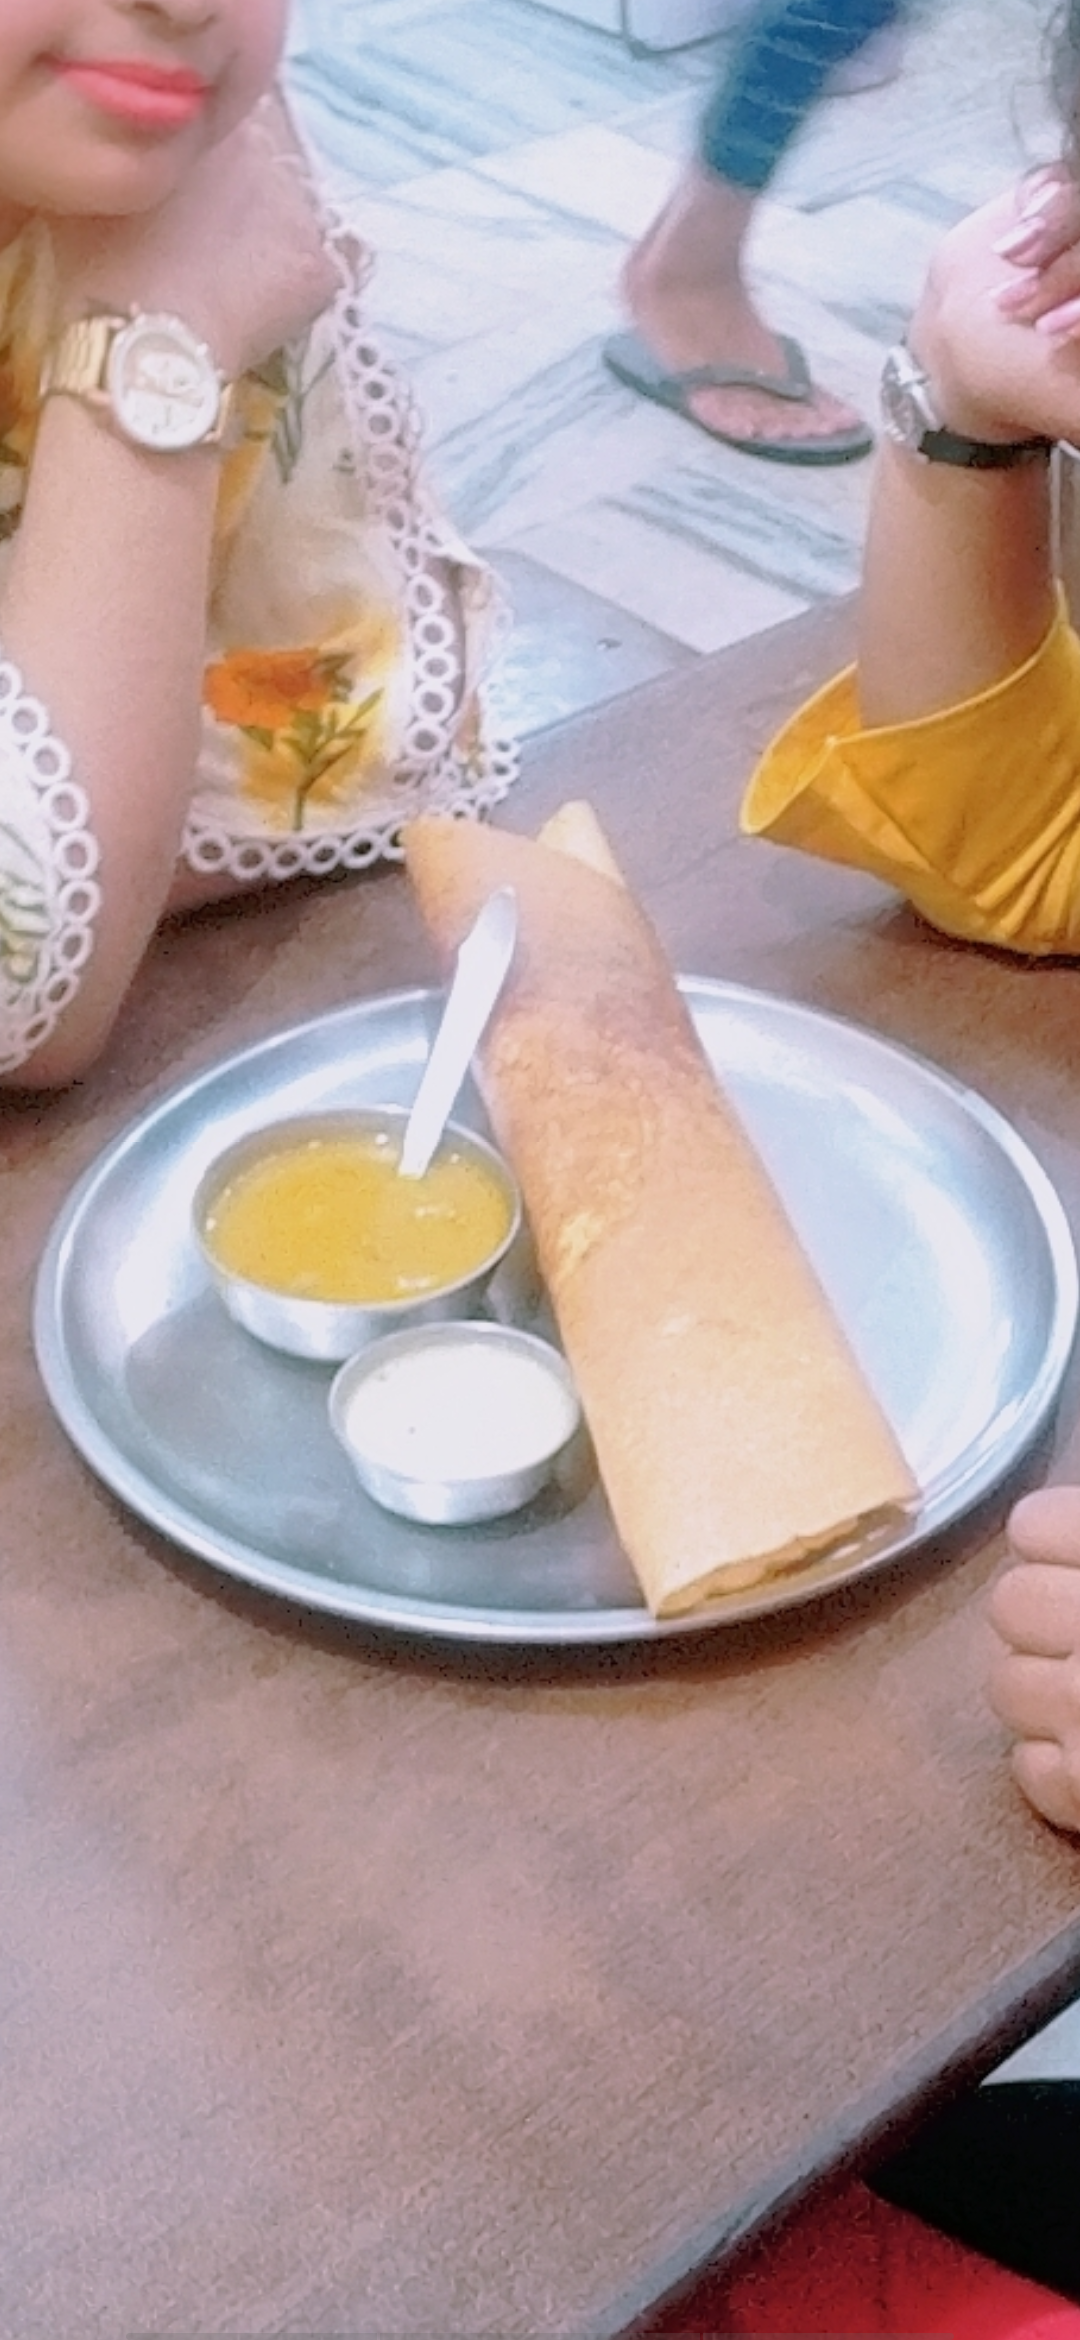food: (186, 789, 926, 1631)
